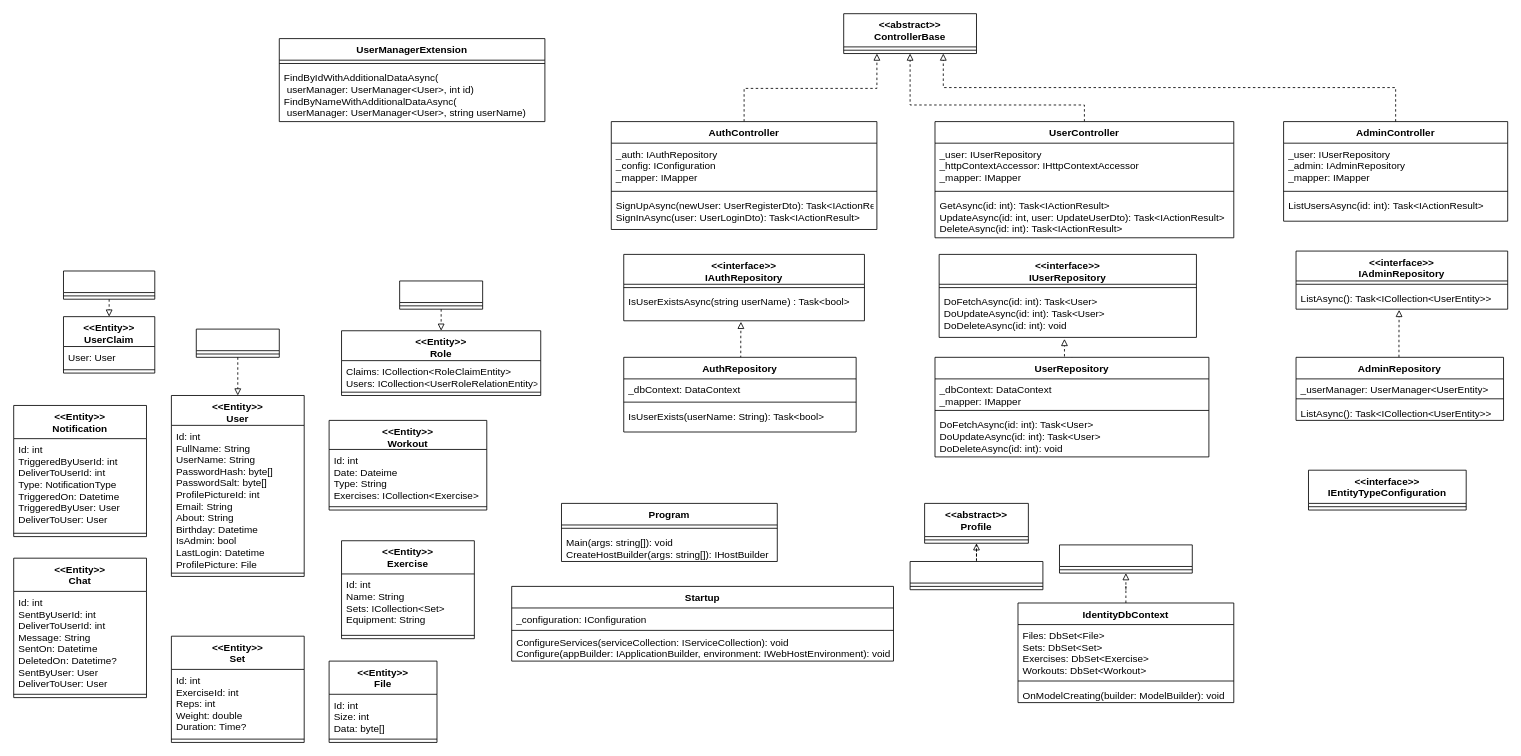
The diagram is 1521 pixels wide and 756 high, and some of its shapes have lost their labels. The centre of each missing label's shape, as x and y in pixels:
"AutoMapping" belongs at pixel 976 575.
"IdentityRole" belongs at pixel 441 294.
"IdentityUser" belongs at pixel 237 342.
"IdentityUserClaim" belongs at pixel 109 284.
"WorkoutDbContext" belongs at pixel 1125 558.
